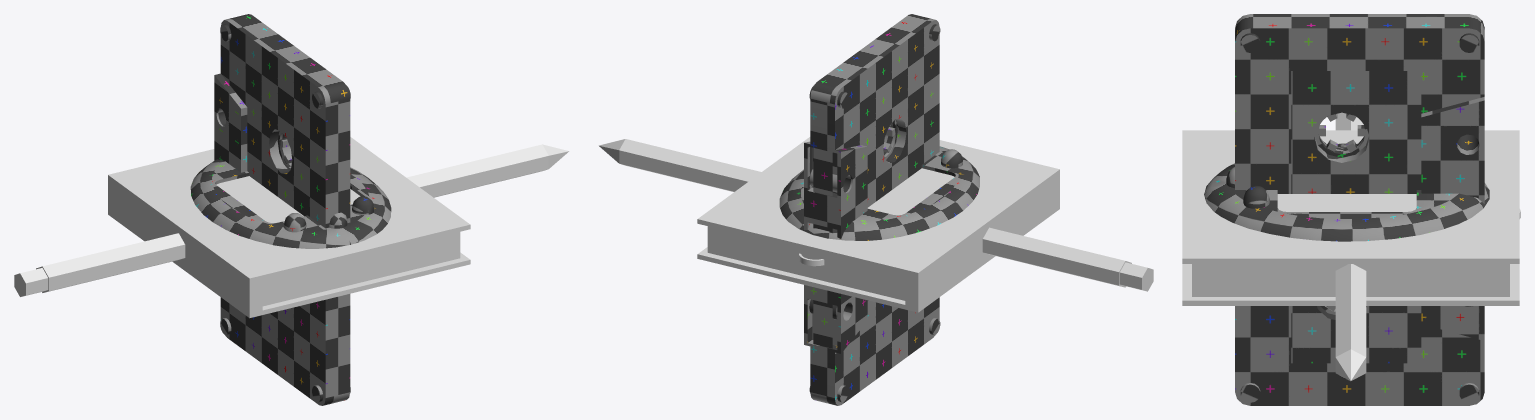
Rendered from Tamogotchi.glb.
3 renders of one model, left to right at view 1: azimuth 30°, elevation 25°; view 2: azimuth 150°, elevation 25°; view 3: azimuth 270°, elevation 25°, orthographic. The views are drawn at different scales.
Parts seen in each view (by area): view 1: Model, Cube, Pencil, Tamogotchi, LCD; view 2: Model, Cube, Pencil, Tamogotchi, LCD; view 3: Model, Cube, Tamogotchi, Pencil, LCD, ReelRight, Button2.
Boxes of the visible parts, left/top/right/bottom form: Model: left=214, top=14, right=350, bottom=405; Cube: left=108, top=137, right=470, bottom=318; Pencil: left=14, top=144, right=569, bottom=296; Tamogotchi: left=190, top=159, right=391, bottom=248; LCD: left=216, top=176, right=360, bottom=222; Model: left=804, top=14, right=940, bottom=405; Cube: left=697, top=137, right=1059, bottom=312; Pencil: left=599, top=139, right=1153, bottom=291; Tamogotchi: left=779, top=146, right=979, bottom=266; LCD: left=867, top=168, right=954, bottom=215; Model: left=1235, top=14, right=1484, bottom=405; Cube: left=1182, top=130, right=1519, bottom=305; Tamogotchi: left=1204, top=143, right=1520, bottom=241; Pencil: left=1335, top=112, right=1366, bottom=380; LCD: left=1277, top=194, right=1416, bottom=211; ReelRight: left=1315, top=114, right=1368, bottom=157; Button2: left=1243, top=185, right=1269, bottom=208.
Size of the model in its own units: 4.97 by 2.74 by 2.23.
Materials: 4 (3 with a texture image).
